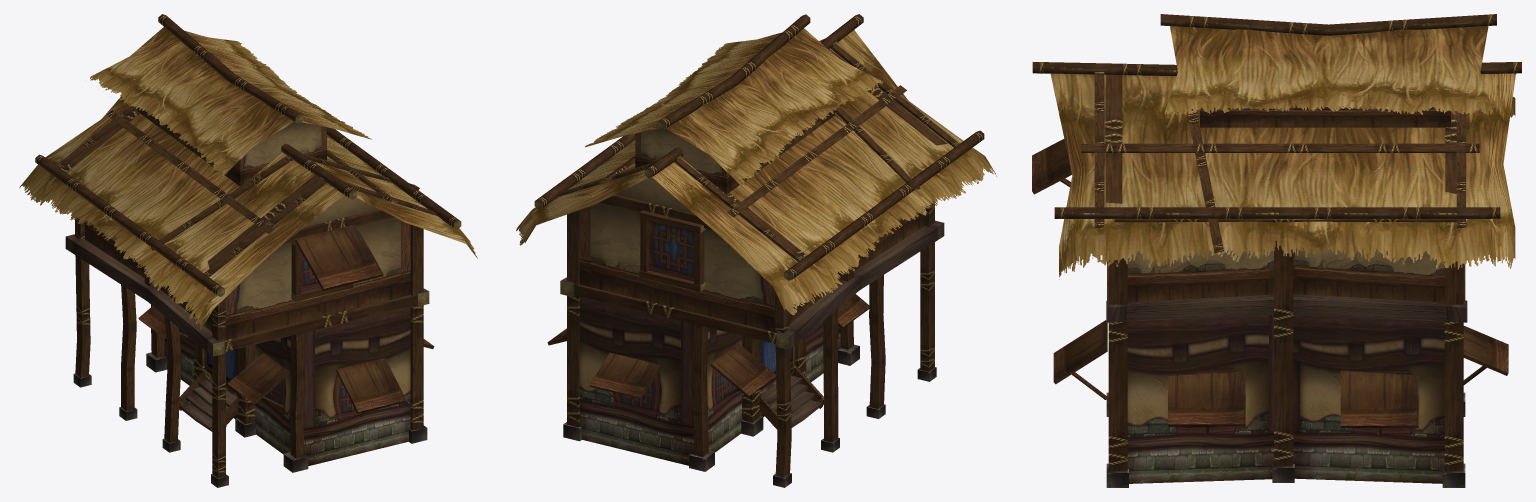
The model's file is environment_Building_diaojiaolou_001_c.FBX.
3 views of the same model, side by side, from view 1: azimuth 30°, elevation 25°; view 2: azimuth 150°, elevation 25°; view 3: azimuth 270°, elevation 25° (orthographic). The views are drawn at different scales.
Visible parts, largest first — view 1: environment_Building_diaojiaolou_001_c01, environment_Building_diaojiaolou_001_c03, environment_Building_diaojiaolou_001_c06, environment_Building_diaojiaolou_001_c02, environment_Building_diaojiaolou_001_c04; view 2: environment_Building_diaojiaolou_001_c01, environment_Building_diaojiaolou_001_c03, environment_Building_diaojiaolou_001_c06, environment_Building_diaojiaolou_001_c02, environment_Building_diaojiaolou_001_c04; view 3: environment_Building_diaojiaolou_001_c01, environment_Building_diaojiaolou_001_c03, environment_Building_diaojiaolou_001_c02, environment_Building_diaojiaolou_001_c06.
Part boxes in pixels (x1,y1,x2,y2): environment_Building_diaojiaolou_001_c01: (19,27,477,330); environment_Building_diaojiaolou_001_c03: (35,14,461,487); environment_Building_diaojiaolou_001_c06: (84,107,434,417); environment_Building_diaojiaolou_001_c02: (164,252,410,465); environment_Building_diaojiaolou_001_c04: (204,349,237,393); environment_Building_diaojiaolou_001_c01: (516,28,996,315); environment_Building_diaojiaolou_001_c03: (534,14,984,487); environment_Building_diaojiaolou_001_c06: (547,110,924,399); environment_Building_diaojiaolou_001_c02: (579,221,840,465); environment_Building_diaojiaolou_001_c04: (760,340,795,390); environment_Building_diaojiaolou_001_c01: (1050,24,1515,279); environment_Building_diaojiaolou_001_c03: (1032,14,1521,487); environment_Building_diaojiaolou_001_c02: (1127,315,1444,483); environment_Building_diaojiaolou_001_c06: (1032,104,1508,436).
Bounding box in the file's own units: 1208 × 1434 × 1327.
